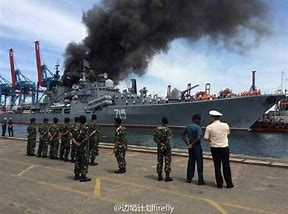smoke: (63, 1, 270, 76)
